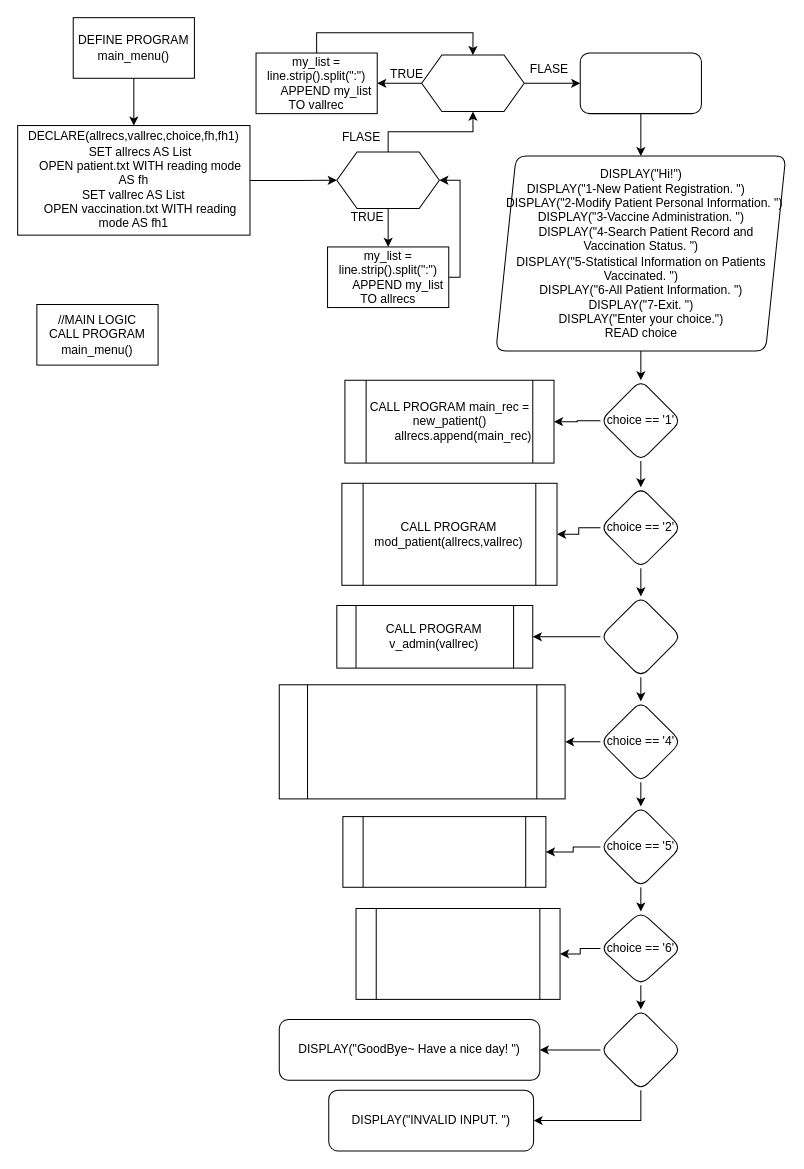
Image size: 804x1169. Some labels were removed from this diagram. Here are the shapes that lost their labels. From the top down, the box of each, then its label:
(421, 54, 524, 112): LOOP line IN fh1
(579, 52, 701, 114): WHILE TRUE
(336, 151, 439, 209): LOOP line IN fh
(599, 595, 681, 677): choice == '3'
(278, 684, 565, 799): CALL PROGRAM search_patient_record_status(vallrec,allrecs)
(342, 816, 546, 887): CALL PROGRAM patient_vac_stat(vallrec)
(355, 907, 560, 999): CALL PROGRAM show_all_rec(allrecs,vallrec)
(599, 1008, 681, 1090): choice == '7'
